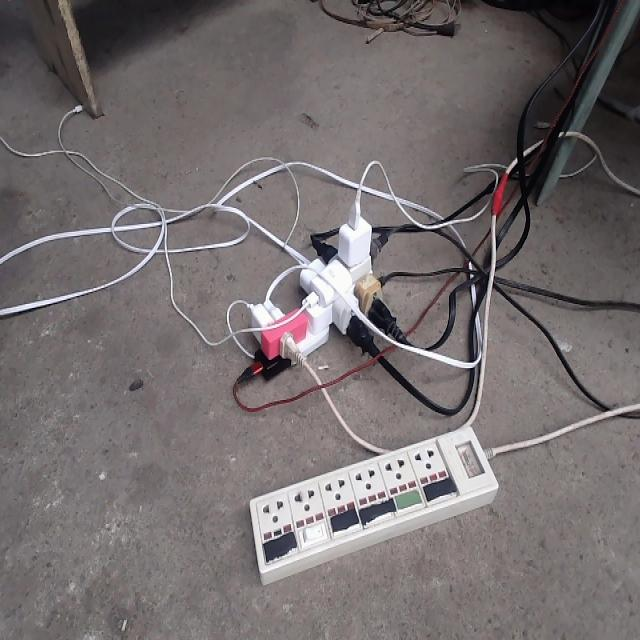-: (236, 191, 408, 380)
